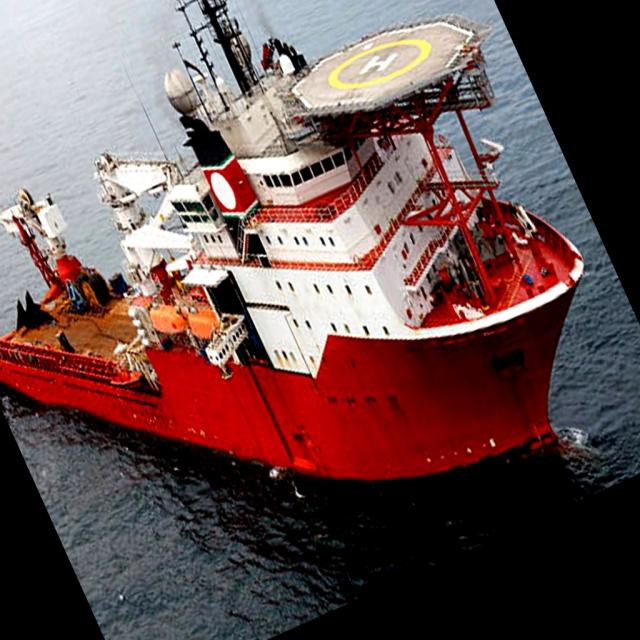helipad: (324, 36, 430, 90)
